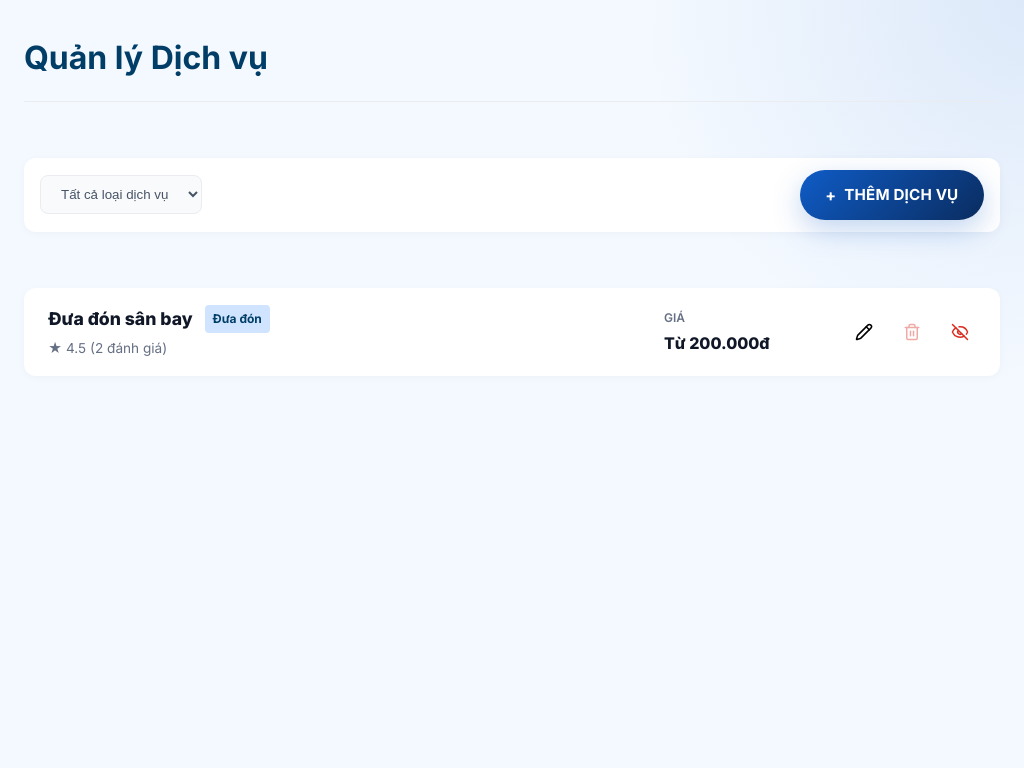
ServiceManagement › sửa dịch vụ usesVariants hiện đúng variants đã lưu
expect the text "Đưa đón sân bay" is shown: met, box [48,304,192,333]
Click the button titled "Sửa". click: (864, 332)
box: [848,316,880,348]
(page scrolled)
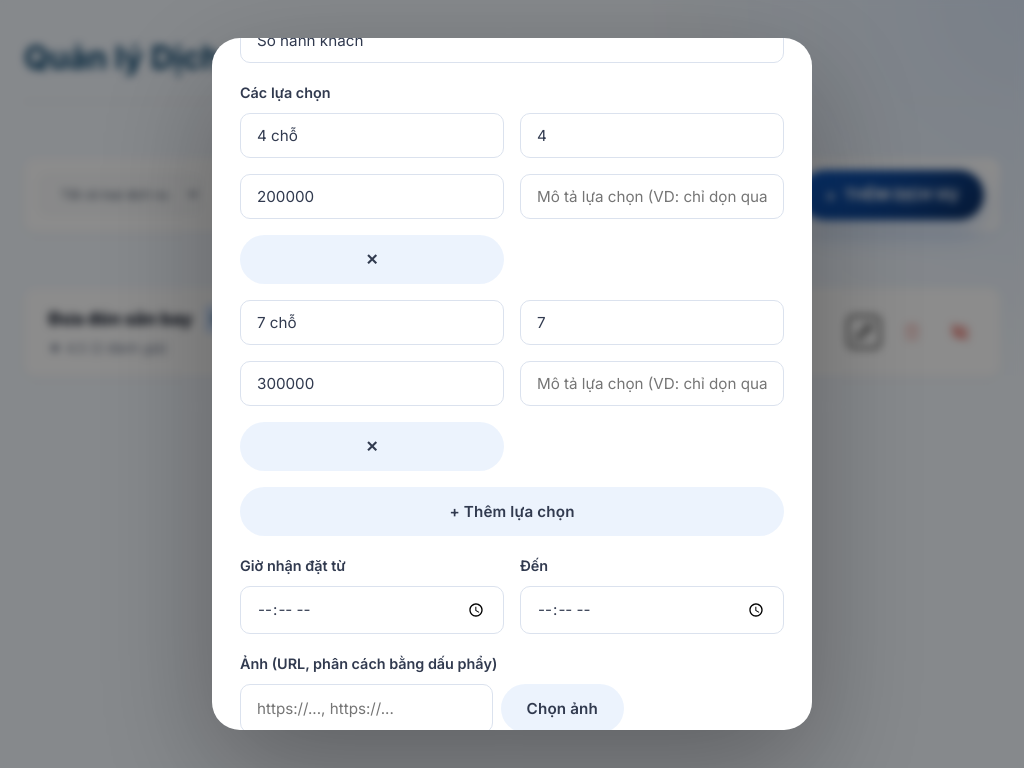
expect the number of fields with placeholder "Tên lựa chọn (VD: 4 chỗ)" is 2: met, box [240,113,504,158]; [240,300,504,345]
expect the 1st field showing "4 chỗ" is shown: met, box [240,113,504,158]
expect the 4th number field showing "300000" is shown: met, box [240,361,504,406]
